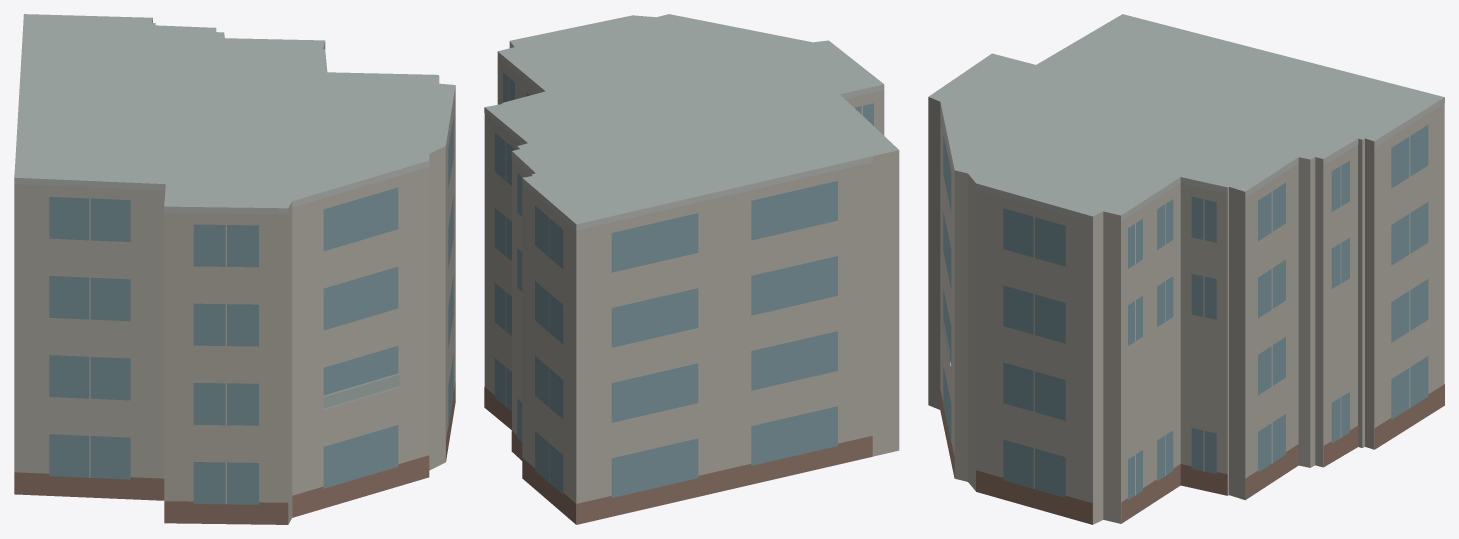
The model's file is survey-upis-33004169.glb.
3 views of the same model, side by side, from view 1: azimuth 30°, elevation 25°; view 2: azimuth 150°, elevation 25°; view 3: azimuth 270°, elevation 25° (orthographic). The views are drawn at different scales.
Visible parts, largest first — view 1: survey-upis-33004169.tmp; view 2: survey-upis-33004169.tmp; view 3: survey-upis-33004169.tmp.
Boxes of the visible parts, bbox=[...] form: survey-upis-33004169.tmp: bbox=[14, 14, 455, 524]; survey-upis-33004169.tmp: bbox=[484, 14, 899, 524]; survey-upis-33004169.tmp: bbox=[928, 14, 1444, 524].
Bounding box in the file's own units: 17.05 × 12.1 × 18.37.
